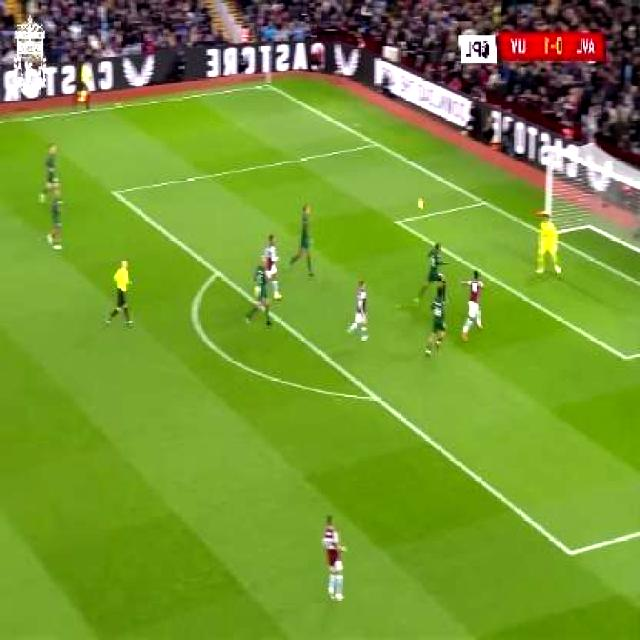bigarea_bottom_inner: (557, 532, 585, 571)
bigarea_top_inner: (108, 180, 124, 205)
bigarea_top_outter: (370, 136, 384, 152)
bottom_arc_area_intersection: (366, 383, 385, 409)
corner: (258, 78, 274, 91)
smallarea_bottom_inner: (617, 341, 637, 374)
smallarea_top_inner: (391, 211, 406, 232)
smallarea_top_outter: (477, 192, 492, 212)
top_arc_area_intersection: (210, 263, 224, 283)
